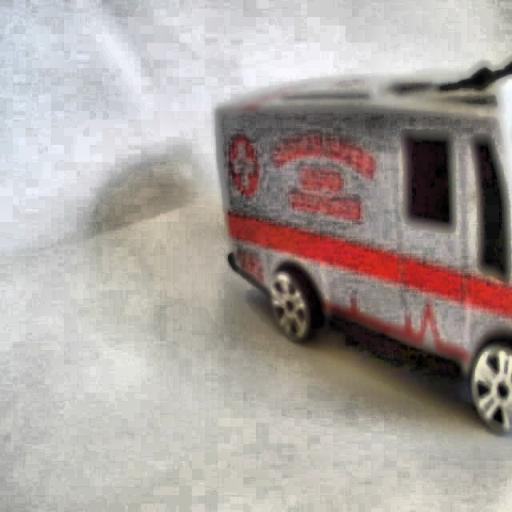ambulance: (214, 60, 512, 434)
